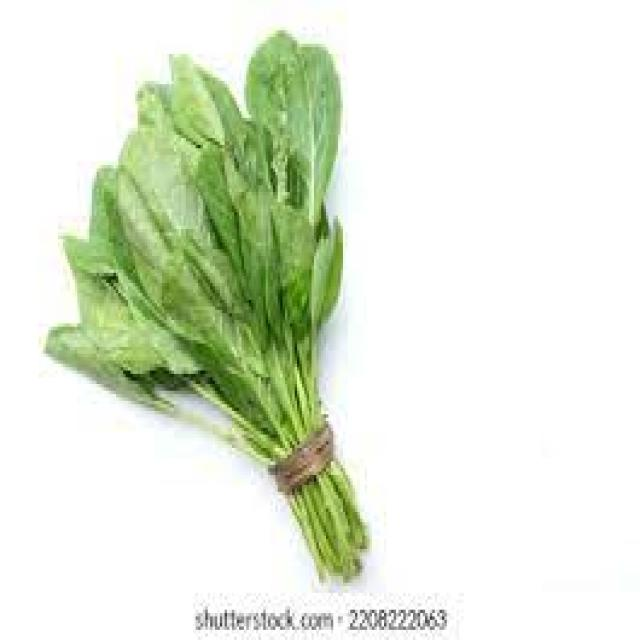collard: (44, 33, 372, 588)
